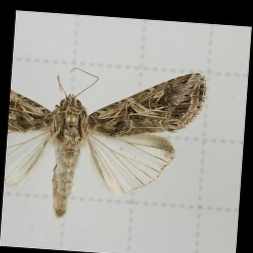Spodoptera litura: (6, 65, 203, 221)
